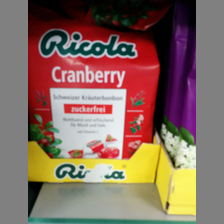candy: (28, 24, 160, 163)
